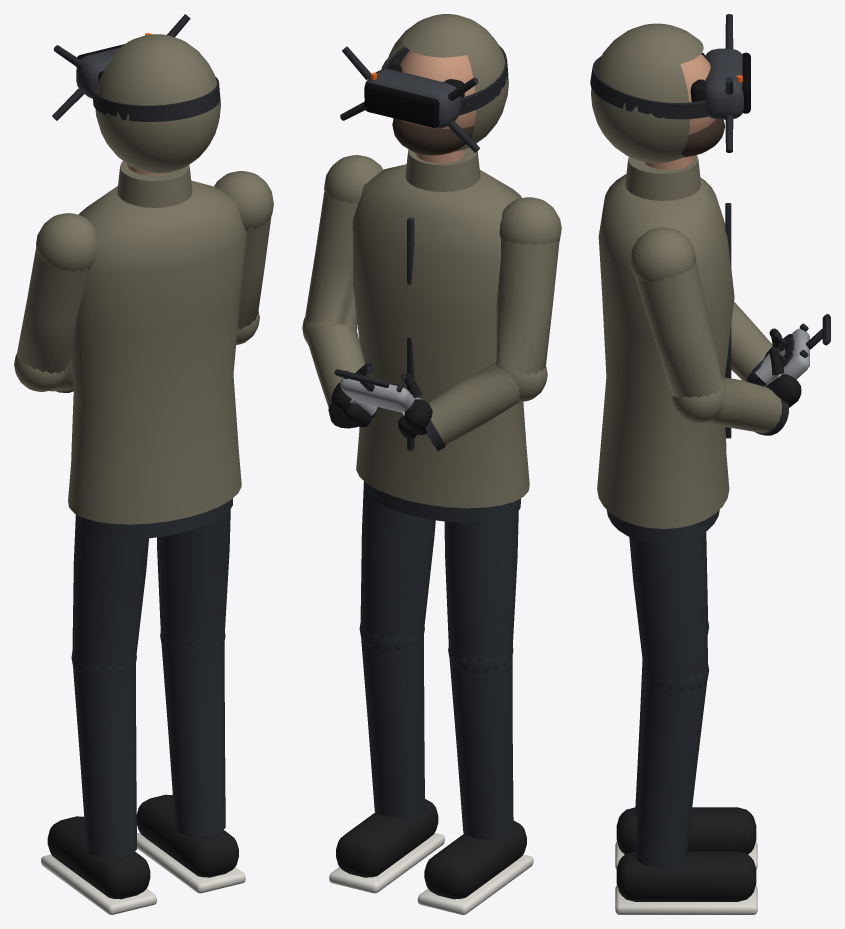
File: pilot.glb
The picture shows the model from 3 angles, left to right: view 1: azimuth 30°, elevation 25°; view 2: azimuth 150°, elevation 25°; view 3: azimuth 270°, elevation 25°; orthographic projection.
Visible parts, largest first — view 1: pilot_P_Jacket, pilot_P_Pants, pilot_P_Shoe, pilot_P_Sole, pilot_P_RemDark, pilot_P_Gog; view 2: pilot_P_Jacket, pilot_P_Pants, pilot_P_Shoe, pilot_P_RemDark, pilot_P_Sole, pilot_P_Skin, pilot_P_Visor, pilot_P_Glove, pilot_P_Gog, pilot_P_Beard, pilot_P_Remote; view 3: pilot_P_Jacket, pilot_P_Pants, pilot_P_Shoe, pilot_P_RemDark, pilot_P_Sole, pilot_P_Gog, pilot_P_Skin, pilot_P_Remote, pilot_P_Glove, pilot_P_Beard, pilot_P_Visor.
Boxes of the visible parts, x1,y1,x2,y2 form: pilot_P_Jacket: (14, 34, 273, 524); pilot_P_Pants: (71, 498, 232, 857); pilot_P_Shoe: (47, 794, 238, 899); pilot_P_Sole: (41, 833, 245, 914); pilot_P_RemDark: (52, 14, 220, 392); pilot_P_Gog: (76, 47, 119, 98); pilot_P_Jacket: (302, 14, 561, 508); pilot_P_Pants: (359, 481, 520, 841); pilot_P_Shoe: (336, 799, 526, 899); pilot_P_RemDark: (328, 45, 508, 451); pilot_P_Sole: (329, 833, 533, 914); pilot_P_Skin: (399, 50, 475, 163); pilot_P_Visor: (364, 83, 439, 127); pilot_P_Glove: (331, 363, 432, 438); pilot_P_Gog: (364, 69, 460, 128); pilot_P_Beard: (392, 118, 474, 155); pilot_P_Remote: (340, 377, 421, 415); pilot_P_Jacket: (591, 23, 782, 528); pilot_P_Pants: (607, 509, 719, 868); pilot_P_Shoe: (616, 807, 756, 901); pilot_P_RemDark: (590, 14, 830, 438); pilot_P_Sole: (615, 841, 757, 914); pilot_P_Gog: (704, 48, 743, 119); pilot_P_Skin: (644, 54, 715, 169); pilot_P_Remote: (755, 328, 809, 386); pilot_P_Glove: (764, 328, 801, 407); pilot_P_Beard: (680, 119, 725, 157); pilot_P_Visor: (742, 52, 750, 113).
Size of the model in its own units: 0.5364 by 1.82 by 0.4657.
